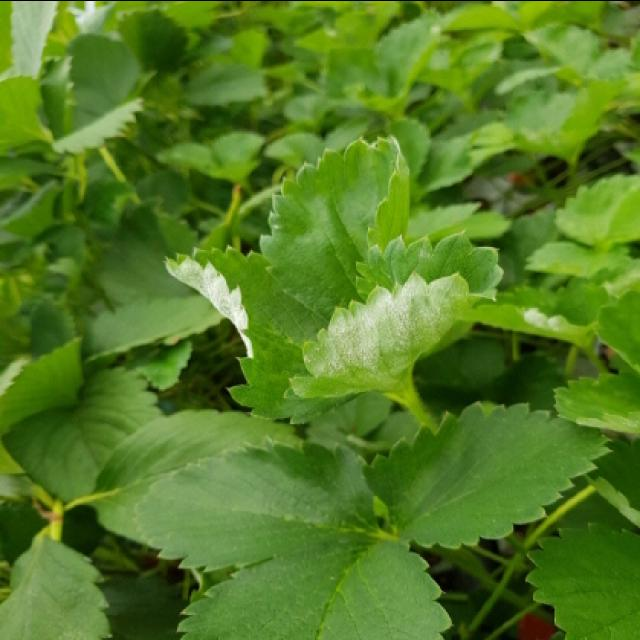Powdery Mildew Leaf: (288, 228, 506, 400), (165, 243, 362, 425), (456, 280, 613, 347)
